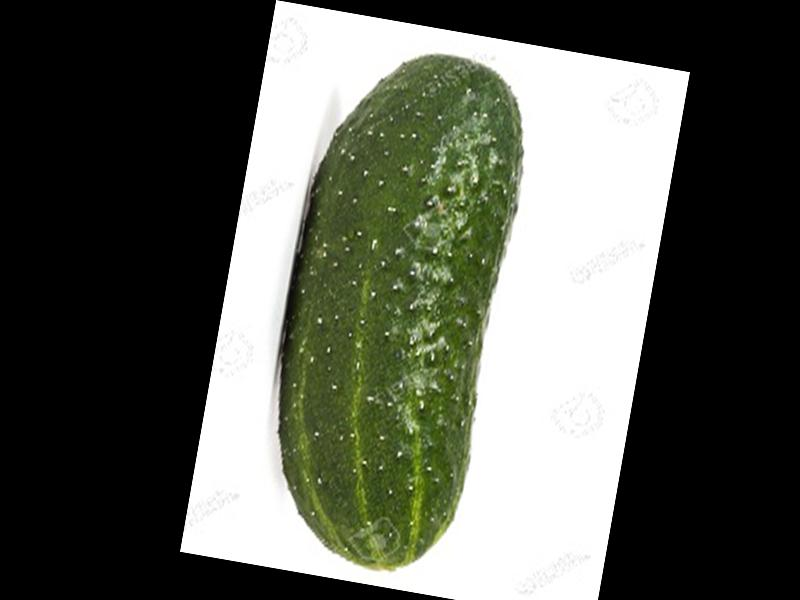Cucumber: (246, 35, 536, 582)
